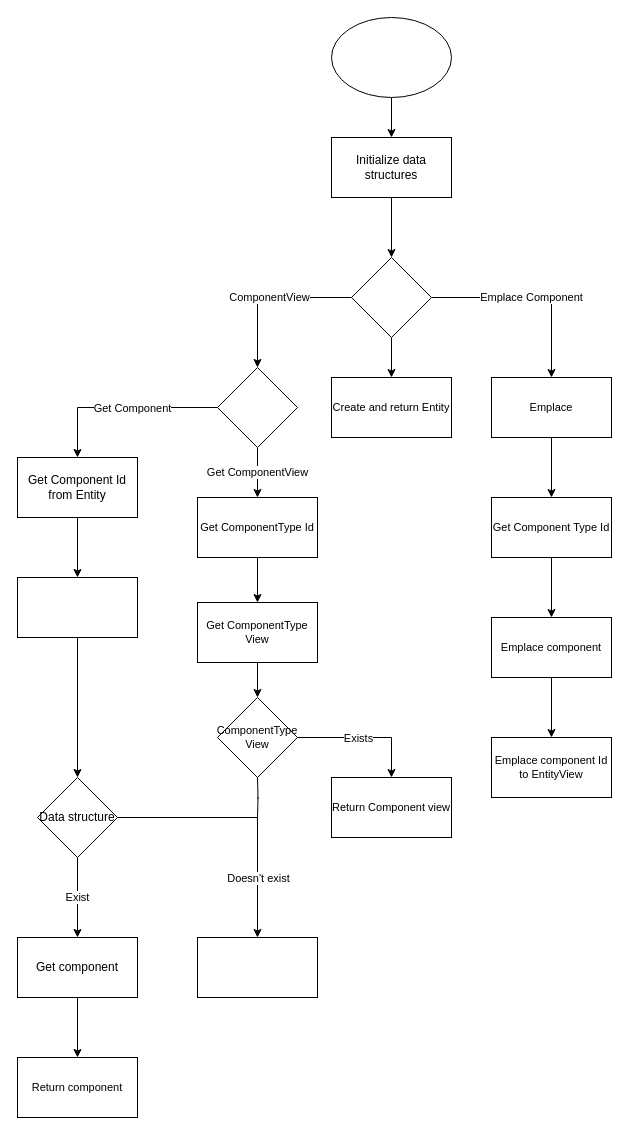
The diagram is 629 pixels wide and 1135 high, and some of its shapes have lost their labels. Each missing label, with the centre of its shape:
EntitySystem: point 391,57
Get ComponentType data structure: point 77,607
Throw Exception: point 257,967
